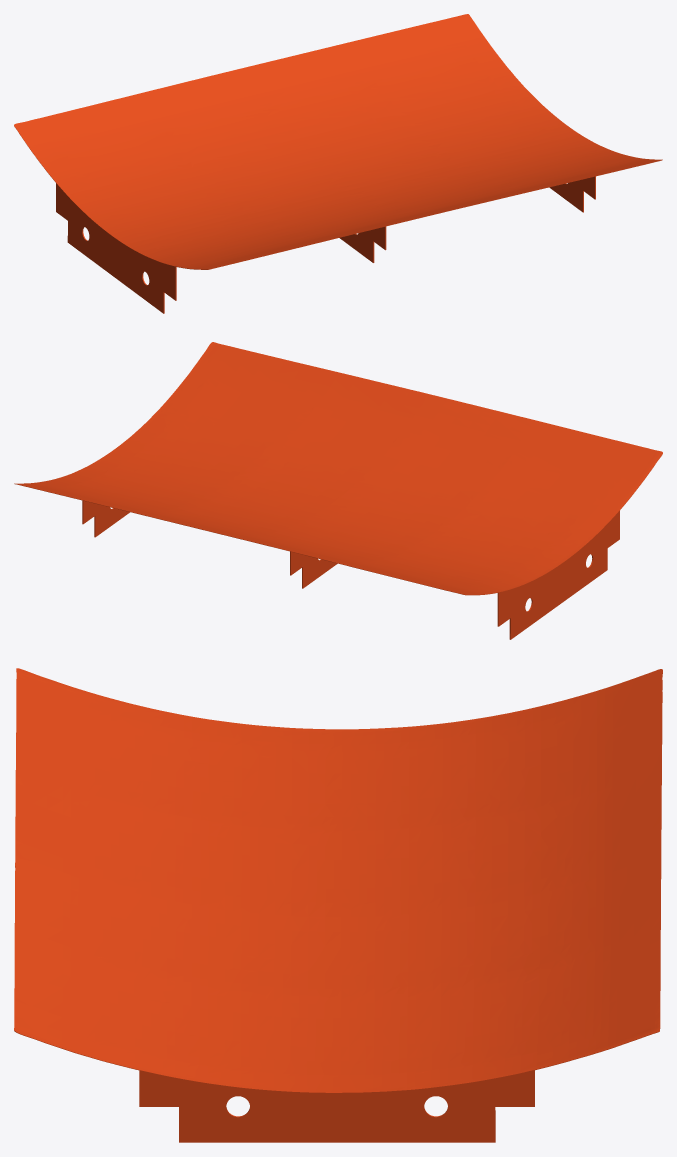
File: tooling.dae
3 views of the same model, one above another, from view 1: azimuth 30°, elevation 25°; view 2: azimuth 150°, elevation 25°; view 3: azimuth 270°, elevation 25° (orthographic). The views are drawn at different scales.
Visible parts, largest first — view 1: Frame_Tooling_Demonstrator_AllCATPart; view 2: Frame_Tooling_Demonstrator_AllCATPart; view 3: Frame_Tooling_Demonstrator_AllCATPart.
Part boxes in pixels (box(x1,y1,x2,y2)): Frame_Tooling_Demonstrator_AllCATPart: box(14, 14, 662, 313); Frame_Tooling_Demonstrator_AllCATPart: box(14, 342, 662, 639); Frame_Tooling_Demonstrator_AllCATPart: box(14, 668, 662, 1142).
Size of the model in its own units: 2.18 by 1.64 by 0.3833.
